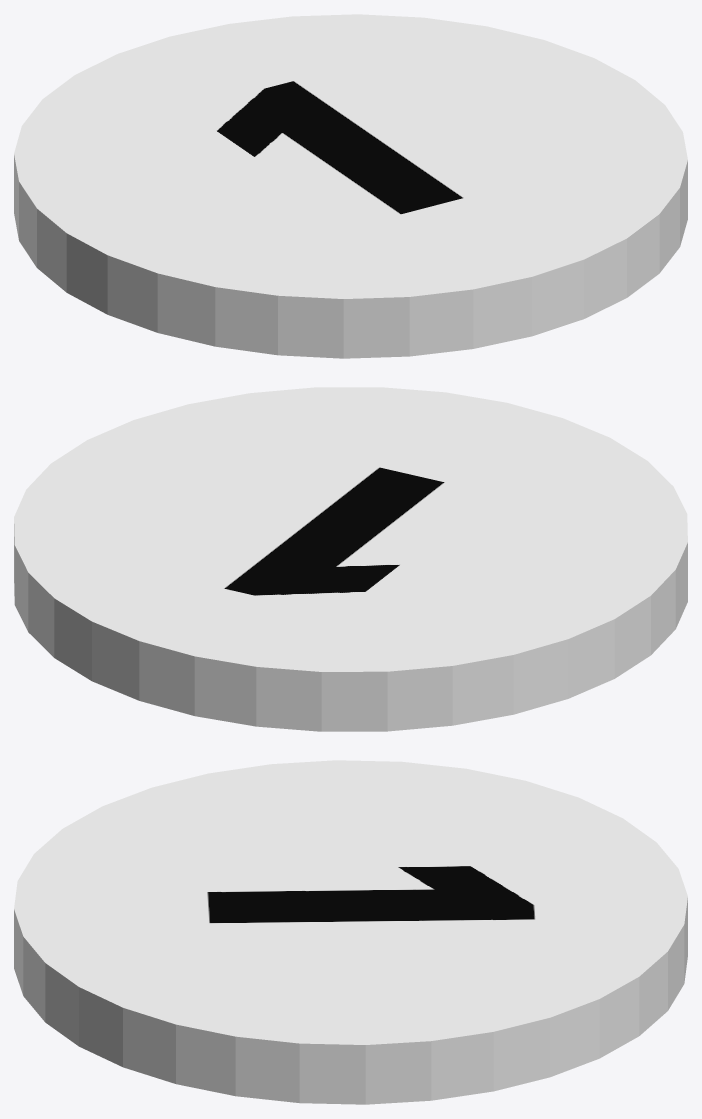
Rendered from Satu.fbx.
3 views of the same model, one above another, from view 1: azimuth 30°, elevation 25°; view 2: azimuth 150°, elevation 25°; view 3: azimuth 270°, elevation 25° (orthographic).
Parts seen in each view (by area): view 1: Cylinder; view 2: Cylinder; view 3: Cylinder.
Boxes of the visible parts, box(x1,y1,x2,y2) form: Cylinder: box(14, 14, 687, 358); Cylinder: box(14, 387, 687, 731); Cylinder: box(14, 760, 687, 1104).
Size of the model in its own units: 243 by 23.72 by 243.
